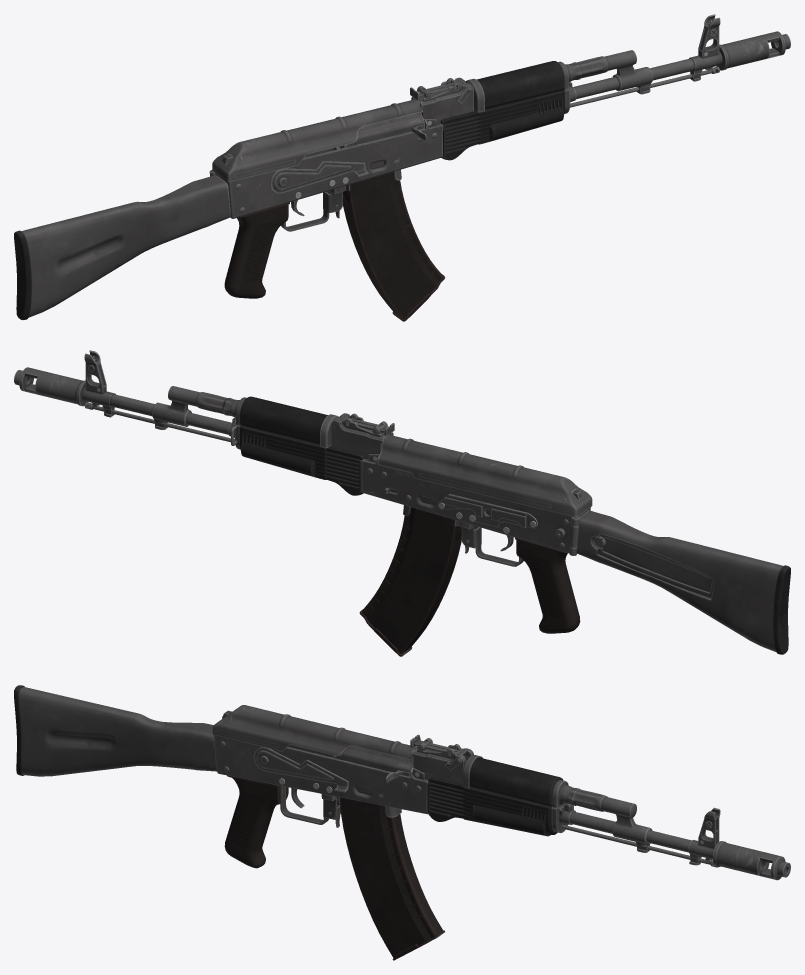
3 renders of one model, top to bottom at view 1: azimuth 30°, elevation 25°; view 2: azimuth 150°, elevation 25°; view 3: azimuth 330°, elevation 25°, orthographic.
Visible parts, largest first — view 1: base, mag, safety, bolt; view 2: base, mag; view 3: base, mag, safety, bolt.
Part boxes in pixels (x1,y1,x2,y2): base: (14,14,790,319); mag: (343,171,445,321); safety: (270,161,368,193); bolt: (333,112,426,150); base: (14,350,790,654); mag: (359,507,461,656); base: (14,685,790,880); mag: (338,797,444,960); safety: (253,747,348,792); bolt: (333,746,413,782).
Size of the model in its own units: 0.9431 by 0.2621 by 0.066.
1 material, 1 textured.
